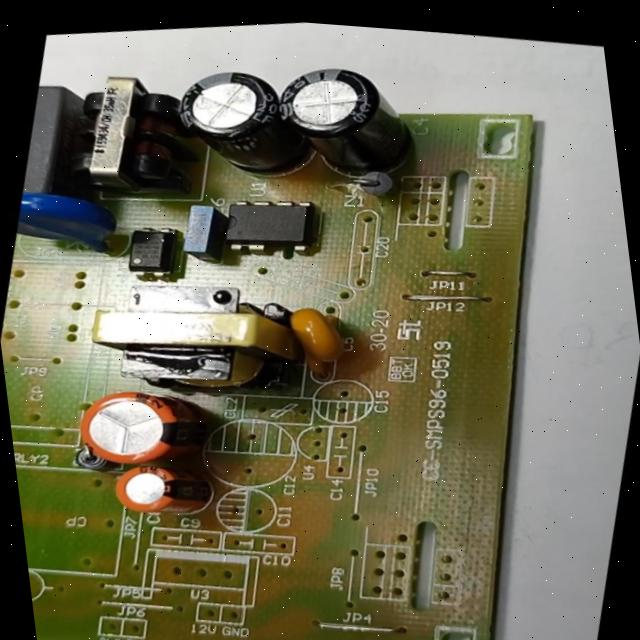Cap1: (65, 371, 209, 480)
Cap2: (106, 449, 216, 527)
Cap3: (158, 54, 298, 181)
Cap4: (260, 43, 437, 197)
MOSFET: (207, 180, 321, 267)
Mov: (9, 177, 126, 263)
Transformer: (65, 249, 313, 431), (43, 51, 208, 213)
